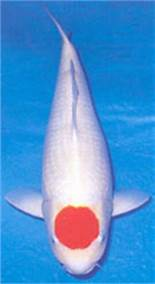sun: (4, 6, 151, 277)
